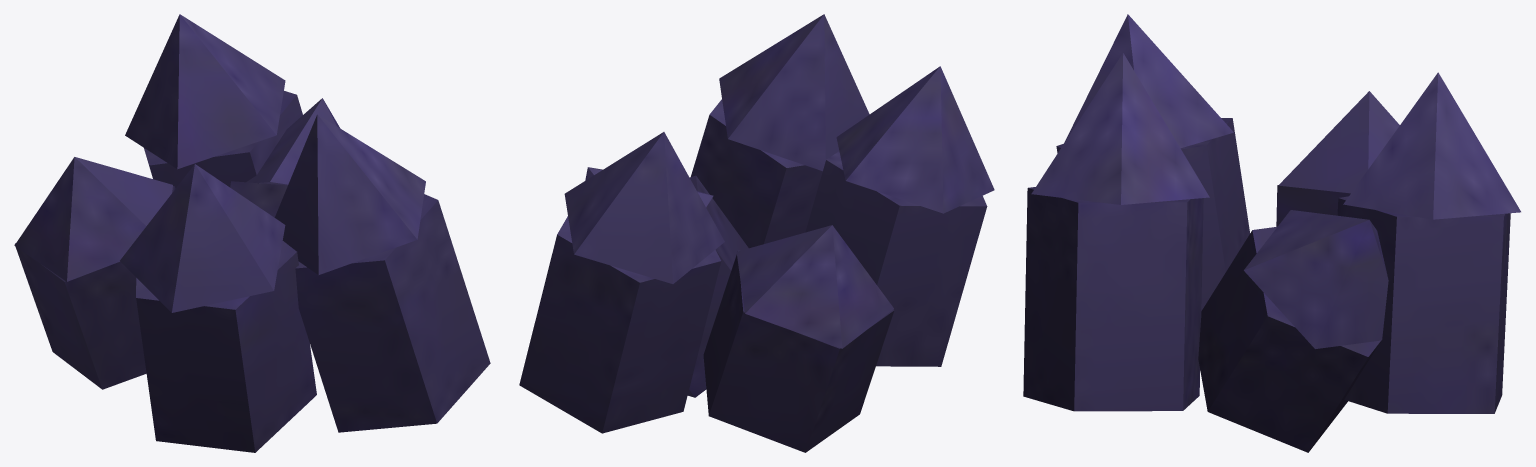
Rendered from tungsten-ore.glb.
3 renders of one model, left to right at view 1: azimuth 30°, elevation 25°; view 2: azimuth 150°, elevation 25°; view 3: azimuth 270°, elevation 25°, orthographic. The views are drawn at different scales.
Visible parts, largest first — view 1: tungsten-ore; view 2: tungsten-ore; view 3: tungsten-ore.
Boxes of the visible parts, x1,y1,x2,y2 form: tungsten-ore: [14, 14, 490, 452]; tungsten-ore: [519, 14, 994, 452]; tungsten-ore: [1023, 14, 1520, 452].
Bounding box in the file's own units: 0.1517 × 0.1433 × 0.1856.
1 material, 1 textured.
